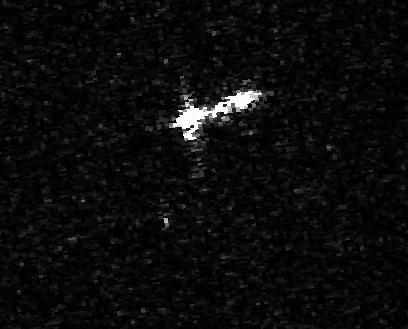ship: (171, 88, 260, 138)
